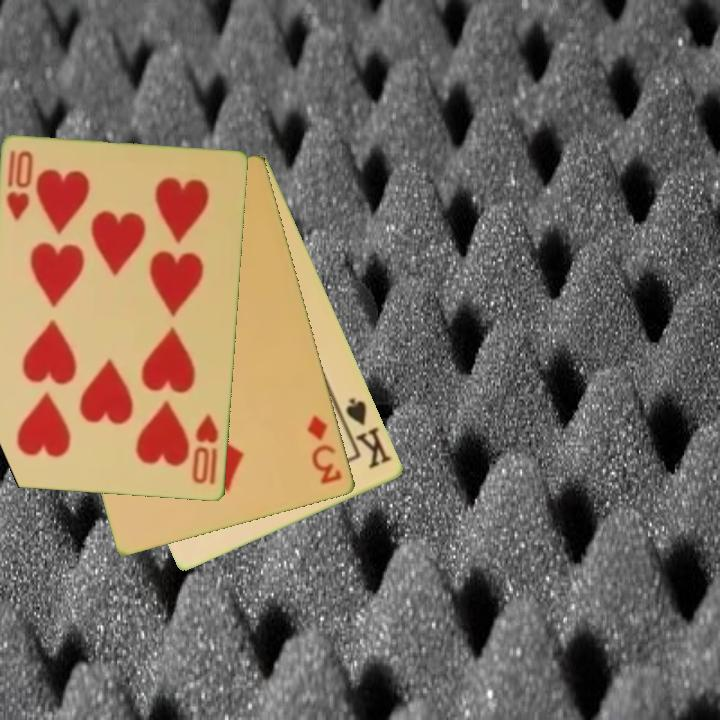10h: (188, 411, 222, 488), (3, 147, 36, 224)
3d: (304, 412, 346, 487)
Ks: (335, 394, 395, 472)
